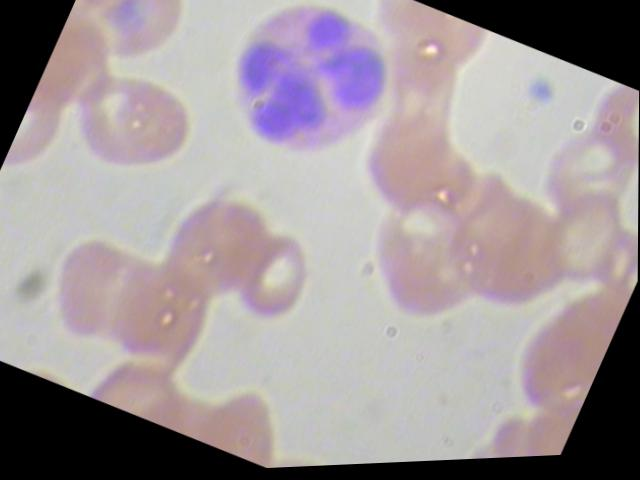Platelets: (519, 76, 561, 121)
Red Blood Cells: (336, 166, 513, 351), (55, 53, 210, 197), (141, 175, 281, 323), (344, 104, 477, 234), (99, 259, 226, 390), (224, 223, 332, 341), (531, 180, 633, 301), (35, 232, 137, 353), (94, 0, 201, 80), (573, 83, 638, 196)
White Blood Cells: (185, 0, 428, 197)
